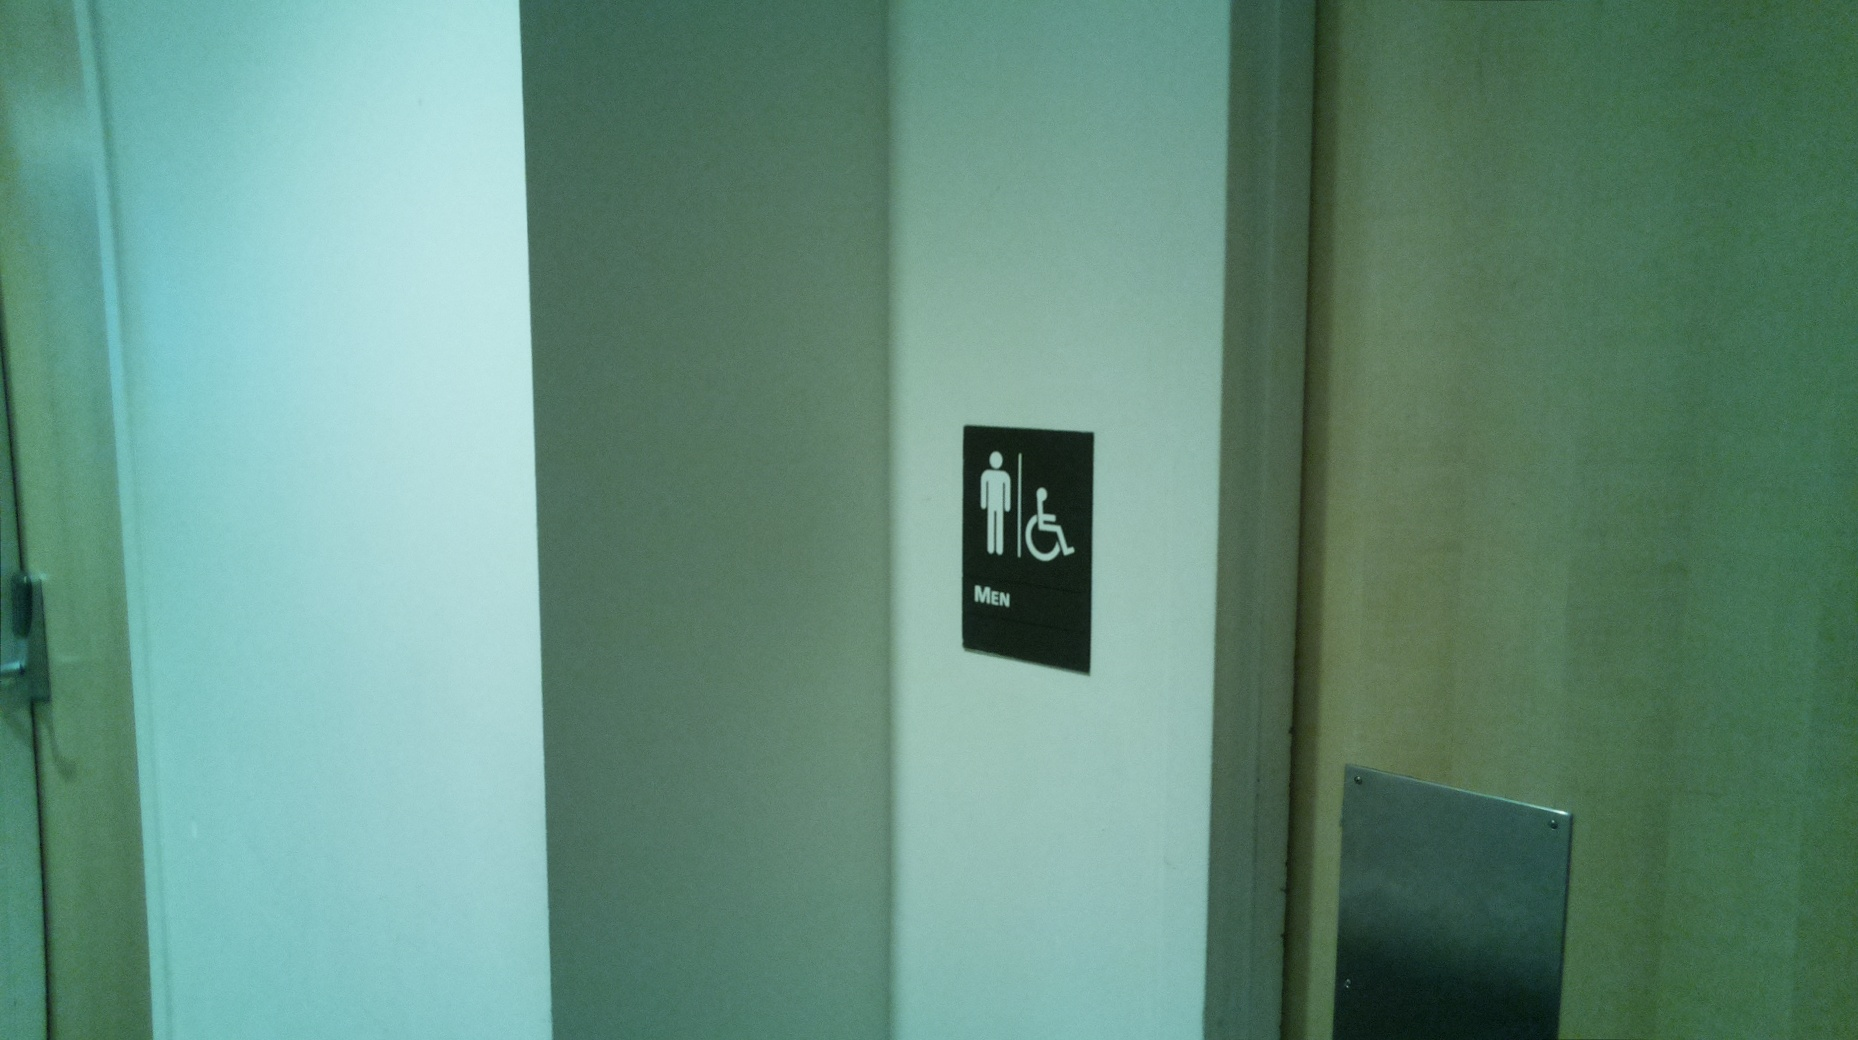bathroom sign: (956, 419, 1103, 685)
